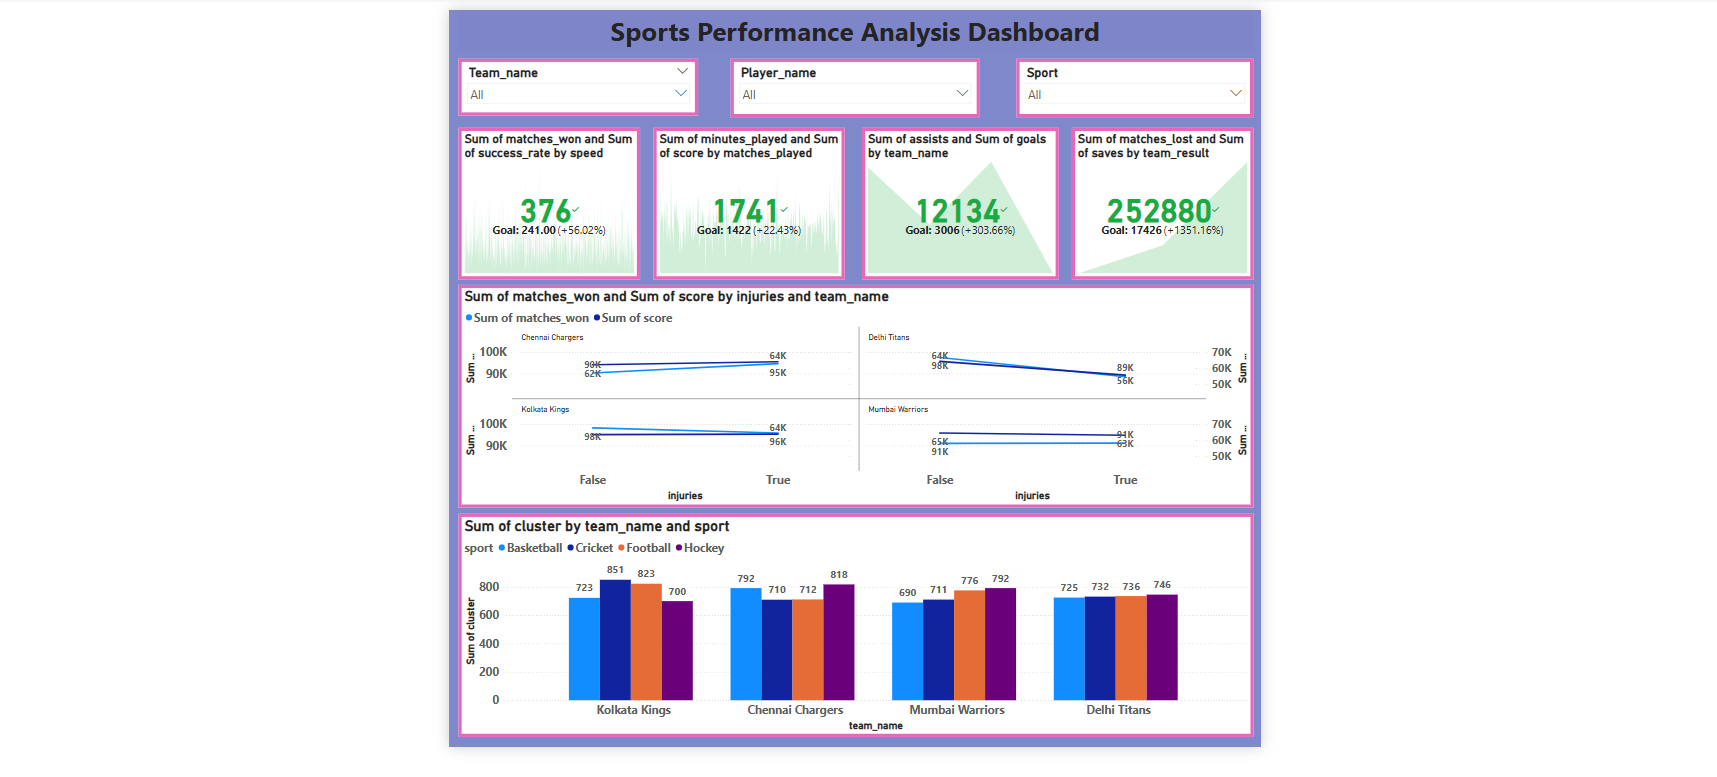

This screenshot's page, from the dashboard's own definition file:
{"tool":"powerbi","page":{"name":"Page 1","canvas":[1500,1360],"ordinal":0},"visuals":[{"type":"kpi","fields":{"TrendLine":["sports_performance_with_clusters.speed"],"Goal":["sports_performance_with_clusters.success_rate"],"Indicator":["sports_performance_with_clusters.matches_won"]},"box":[16.7,218.3,335,280],"z":0},{"type":"kpi","fields":{"Goal":["sports_performance_with_clusters.score"],"Indicator":["sports_performance_with_clusters.minutes_played"],"TrendLine":["sports_performance_with_clusters.matches_played"]},"box":[378.3,218.3,353.3,280],"z":1},{"type":"kpi","fields":{"Goal":["sports_performance_with_clusters.goals"],"Indicator":["sports_performance_with_clusters.assists"],"TrendLine":["sports_performance_with_clusters.team_name"]},"box":[763.3,218.3,363.3,280],"z":2},{"type":"kpi","fields":{"Goal":["sports_performance_with_clusters.saves"],"Indicator":["sports_performance_with_clusters.matches_lost"],"TrendLine":["sports_performance_with_clusters.team_result"]},"box":[1150,218.3,335,280],"z":3},{"type":"slicer","fields":{"Values":["sports_performance_with_clusters.team_name"]},"box":[17.5,90,442.5,105],"z":4},{"type":"slicer","fields":{"Values":["sports_performance_with_clusters.player_name"]},"box":[520,90,460,107.5],"z":5},{"type":"slicer","fields":{"Values":["sports_performance_with_clusters.sport"]},"box":[1047.5,90,437.5,107.5],"z":6},{"type":"lineChart","fields":{"Y":["sports_performance_with_clusters.matches_won"],"Category":["sports_performance_with_clusters.injuries"],"Y2":["sports_performance_with_clusters.score"],"Rows":["sports_performance_with_clusters.team_name"]},"box":[16.7,508.3,1468.3,411.7],"z":7},{"type":"lineClusteredColumnComboChart","fields":{"Category":["sports_performance_with_clusters.team_name"],"Y":["sports_performance_with_clusters.cluster"],"Series":["sports_performance_with_clusters.sport"]},"box":[17,930,1468,412],"z":8},{"type":"textbox","box":[15,0,1470,75],"z":9}]}

Visuals, with their boxes in screenshot pixels (x1, y1, x2, y2):
kpi - sports_performance_with_clusters.speed x sports_performance_with_clusters.success_rate: (x1=452, y1=128, x2=634, y2=280)
kpi - sports_performance_with_clusters.score x sports_performance_with_clusters.minutes_played: (x1=649, y1=128, x2=841, y2=280)
kpi - sports_performance_with_clusters.goals x sports_performance_with_clusters.assists: (x1=858, y1=128, x2=1056, y2=280)
kpi - sports_performance_with_clusters.saves x sports_performance_with_clusters.matches_lost: (x1=1068, y1=128, x2=1251, y2=280)
slicer - sports_performance_with_clusters.team_name: (x1=452, y1=58, x2=693, y2=115)
slicer - sports_performance_with_clusters.player_name: (x1=726, y1=58, x2=976, y2=116)
slicer - sports_performance_with_clusters.sport: (x1=1013, y1=58, x2=1251, y2=116)
lineChart - sports_performance_with_clusters.matches_won x sports_performance_with_clusters.injuries: (x1=452, y1=286, x2=1251, y2=510)
lineClusteredColumnComboChart - sports_performance_with_clusters.team_name x sports_performance_with_clusters.cluster: (x1=452, y1=515, x2=1251, y2=739)
textbox: (x1=451, y1=9, x2=1251, y2=50)
